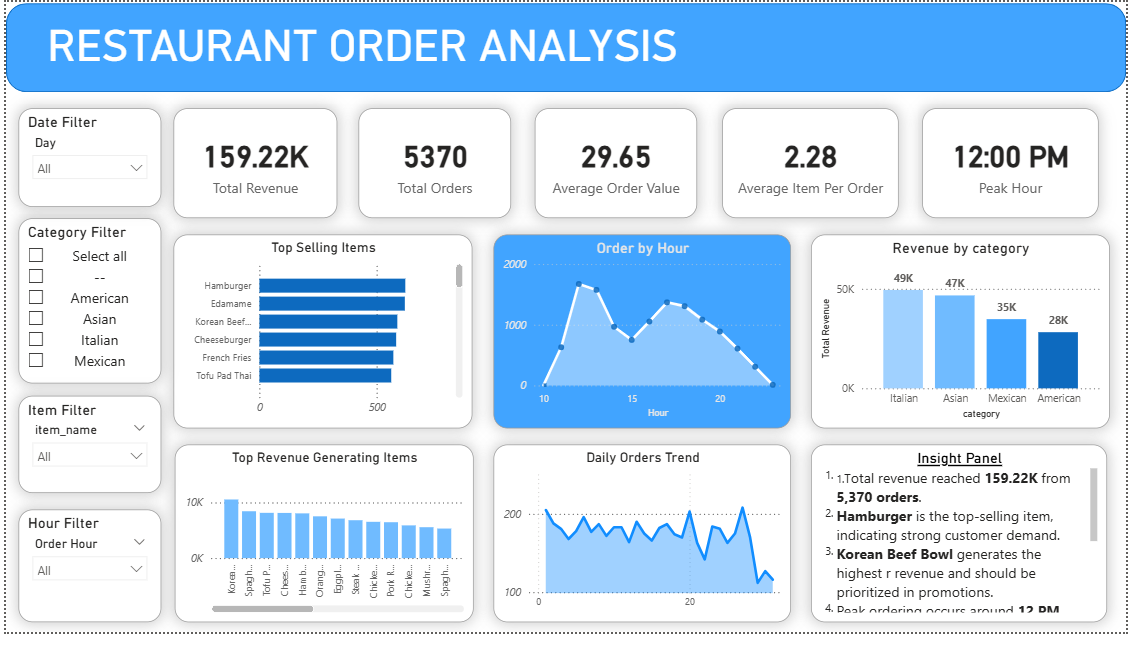

Layout of this report page (visuals, bound fields, positions):
{"tool":"powerbi","page":{"name":"Page 1","canvas":[1280,720],"ordinal":0},"visuals":[{"type":"group","id":"g1","title":"Group 1","box":[0,1.4,1280,102.9],"z":0},{"type":"shape","box":[0,1.4,1280.3,101.5],"z":0,"group":"g1"},{"type":"textbox","box":[27,3.4,752,101.5],"z":1000,"group":"g1"},{"type":"card","fields":{"Values":["restaurant_db menu_items.Total revenue"]},"box":[191.4,121.4,187.1,125.7],"z":1000},{"type":"card","fields":{"Values":["restaurant_db menu_items.Total Orders"]},"box":[402.9,121.4,174.3,125.7],"z":2000},{"type":"card","fields":{"Values":["restaurant_db menu_items.Average Order Value"]},"box":[604.3,121.4,185.7,125.7],"z":3000},{"type":"barChart","title":"Top Selling Items","fields":{"Category":["restaurant_db menu_items.item_name"],"Y":["restaurant_db menu_items.Order Count"]},"box":[191.4,265.7,341.4,221.4],"z":4000},{"type":"columnChart","title":"Revenue by category","fields":{"Category":["restaurant_db menu_items.category"],"Y":["restaurant_db menu_items.Total Revenue"]},"box":[920,265.7,341.4,221.4],"z":5000},{"type":"lineChart","title":"Order by Hour","fields":{"Category":["restaurant_db order_details.Order Hour"],"Y":["restaurant_db menu_items.Order Count"]},"box":[557.1,265.7,340,221.4],"z":6000},{"type":"card","fields":{"Values":["restaurant_db menu_items.Average Item Per Order"]},"box":[818.6,121.4,201.4,125.7],"z":7000},{"type":"columnChart","title":"Top Revenue Generating Items","fields":{"Category":["restaurant_db menu_items.item_name"],"Y":["restaurant_db menu_items.Total Revenue"]},"box":[192.9,505.7,341.4,202.9],"z":8000},{"type":"lineChart","title":"Daily Orders Trend","fields":{"Y":["restaurant_db menu_items.Total Orders"],"Category":["restaurant_db order_details.order_date.Variation.Date Hierarchy.Day"]},"box":[557.1,505.7,340,202.9],"z":9000},{"type":"listSlicer","title":"Category Filter","fields":{"Values":["restaurant_db menu_items.category"]},"box":[14.3,247.1,162.9,188.6],"z":10000},{"type":"slicer","title":"Item Filter","fields":{"Values":["restaurant_db menu_items.item_name"]},"box":[14.3,450,162.9,111.4],"z":11000},{"type":"slicer","title":"Date Filter","fields":{"Values":["restaurant_db order_details.order_date.Variation.Date Hierarchy.Day"]},"box":[14.3,121.4,162.9,112.9],"z":12000},{"type":"slicer","title":"Hour Filter","fields":{"Values":["restaurant_db order_details.Order Hour"]},"box":[14.3,580,162.9,128.6],"z":13000},{"type":"textbox","title":"Insight Panel","box":[920,505.7,338.6,202.9],"z":14000},{"type":"card","fields":{"Values":["restaurant_db menu_items.Peak Hour"]},"box":[1047.1,121.4,201.4,125.7],"z":15000}]}

Visuals, with their boxes in screenshot pixels (x1, y1, x2, y2), scaled from the page's 1280x720 canvas onto the 1134x650 screenshot:
"Group 1" group: region(0, 1, 1133, 94)
shape: region(0, 1, 1133, 93)
textbox: region(24, 3, 690, 95)
card - restaurant_db menu_items.Total revenue: region(170, 110, 335, 223)
card - restaurant_db menu_items.Total Orders: region(357, 110, 511, 223)
card - restaurant_db menu_items.Average Order Value: region(535, 110, 700, 223)
"Top Selling Items" barChart: region(170, 240, 472, 440)
"Revenue by category" columnChart: region(815, 240, 1118, 440)
"Order by Hour" lineChart: region(494, 240, 795, 440)
card - restaurant_db menu_items.Average Item Per Order: region(725, 110, 904, 223)
"Top Revenue Generating Items" columnChart: region(171, 457, 473, 640)
"Daily Orders Trend" lineChart: region(494, 457, 795, 640)
"Category Filter" listSlicer: region(13, 223, 157, 393)
"Item Filter" slicer: region(13, 406, 157, 507)
"Date Filter" slicer: region(13, 110, 157, 212)
"Hour Filter" slicer: region(13, 524, 157, 640)
"Insight Panel" textbox: region(815, 457, 1115, 640)
card - restaurant_db menu_items.Peak Hour: region(928, 110, 1106, 223)
